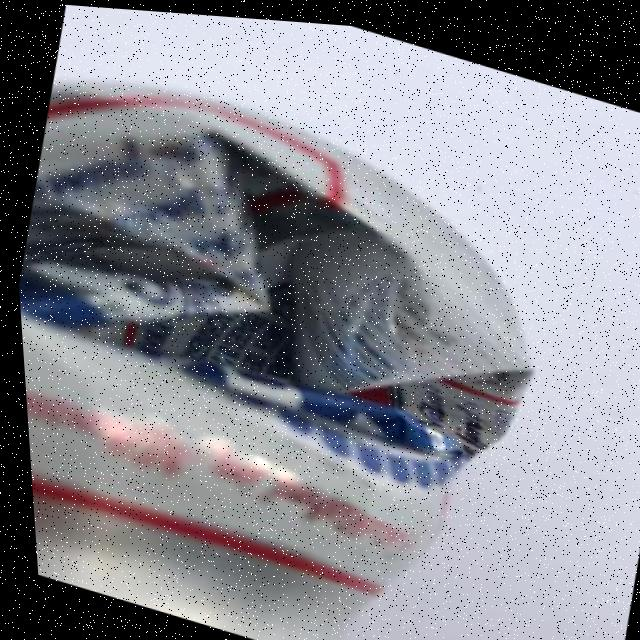metal: (2, 31, 602, 640)
